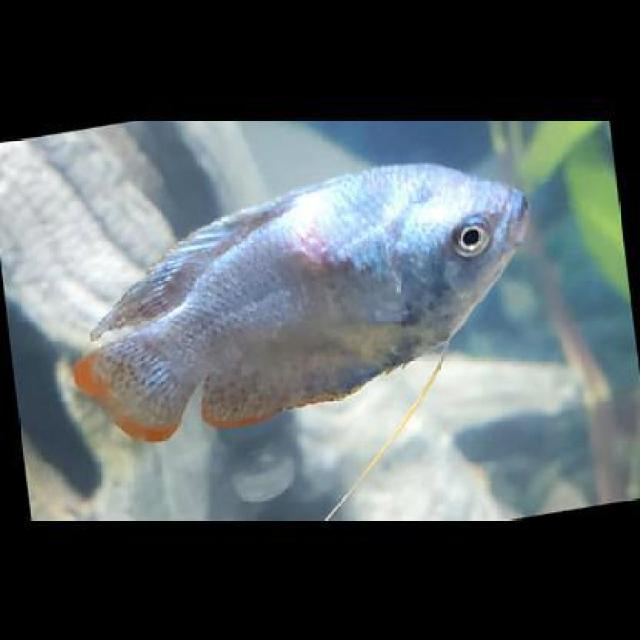Gourami: (74, 160, 532, 443)
